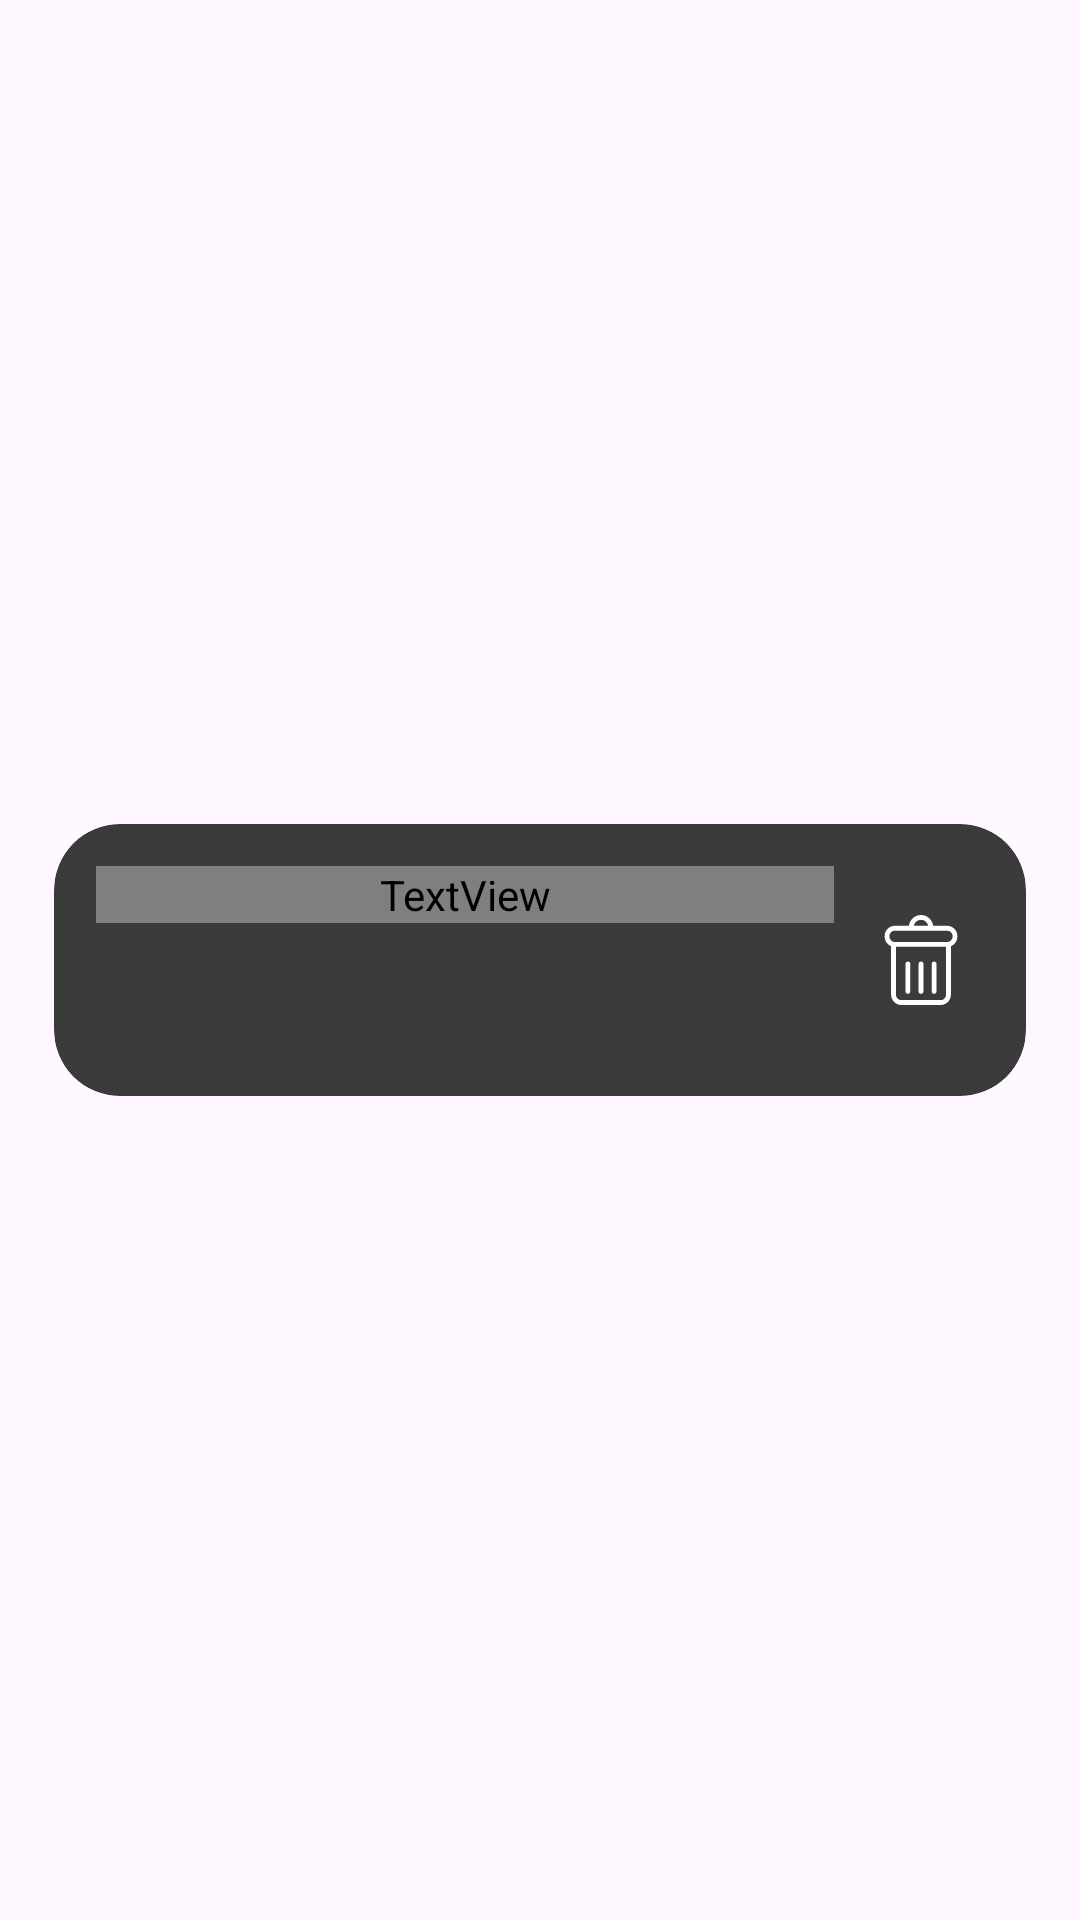

Screen size 1080×1920. Icon name, then its box in pixels as (x1, y1, x2, y2):
delete: (884, 915, 958, 1005)
